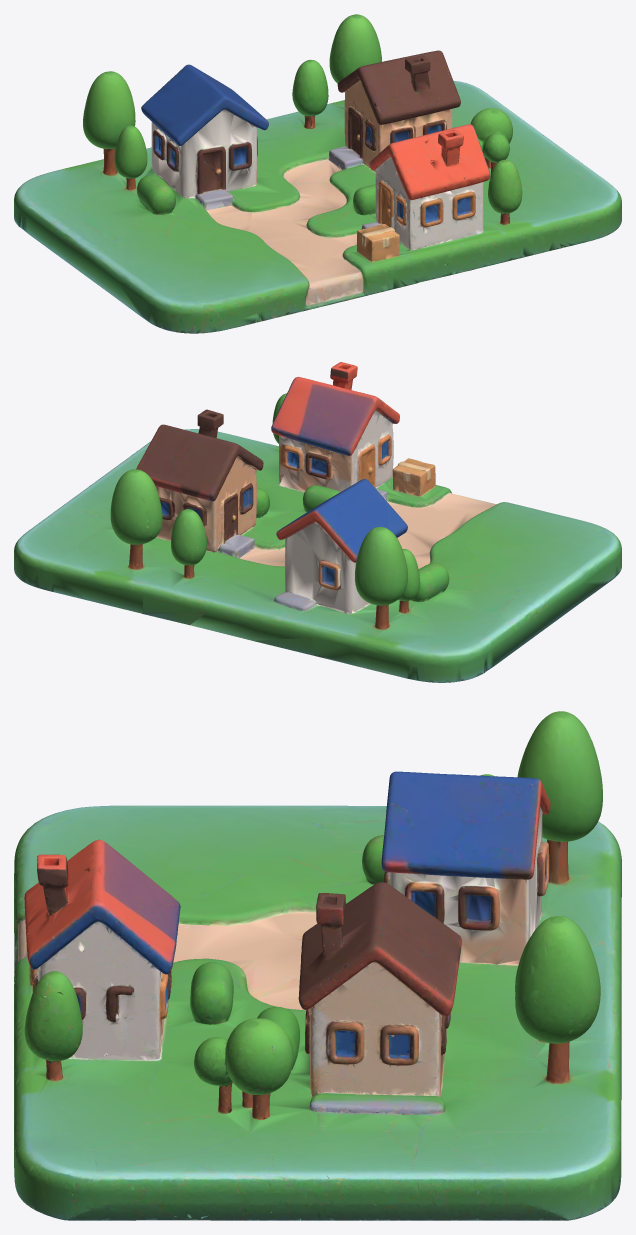
Rendered from community-shield.glb.
3 views of the same model, one above another, from view 1: azimuth 30°, elevation 25°; view 2: azimuth 150°, elevation 25°; view 3: azimuth 270°, elevation 25° (orthographic). The views are drawn at different scales.
Parts seen in each view (by area): view 1: Mesh_0; view 2: Mesh_0; view 3: Mesh_0.
Boxes of the visible parts, x1,y1,x2,y2 form: Mesh_0: (14,14,621,333); Mesh_0: (14,362,621,682); Mesh_0: (14,711,621,1220).
Size of the model in its own units: 22.21 by 6 by 15.05.
Materials: 1 (1 with a texture image).
